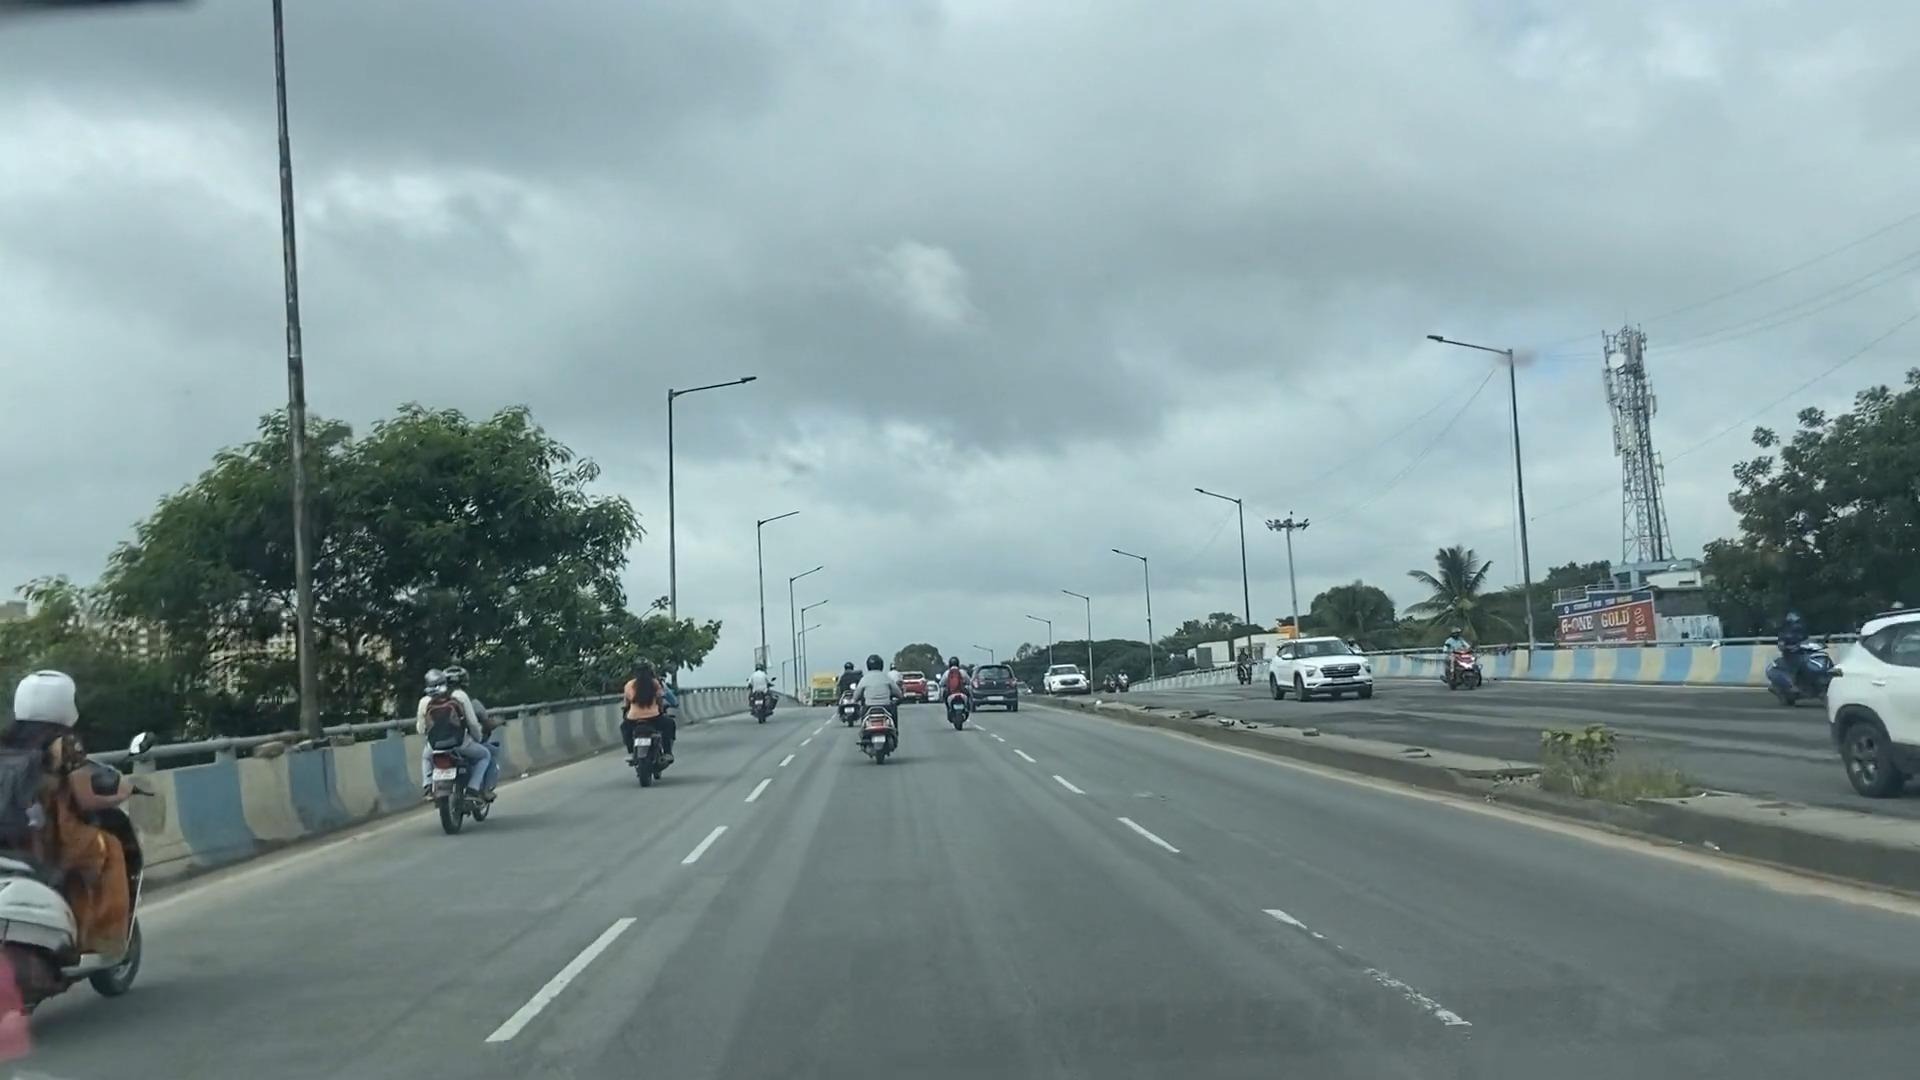LMV: (412, 664, 506, 837), (616, 654, 675, 790), (844, 656, 901, 756), (972, 660, 1020, 724), (938, 650, 967, 729), (746, 658, 776, 731)
